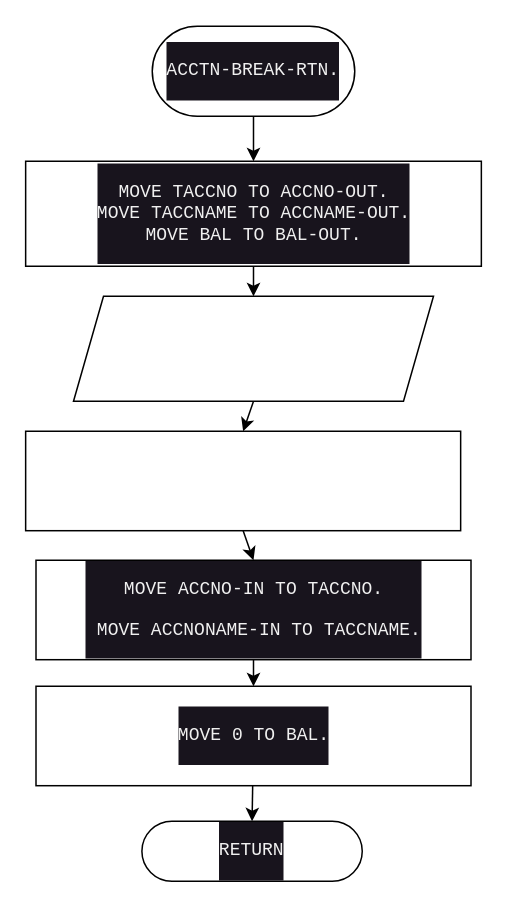
This 509x908 diagram has some shape labels left out. The centre of each missing label's shape, as x and y in pixels:
"ADD 1 TO DCTR. ADD BAL TO BCTR." goes at point 242,480.
"WRITE OUTREC FROM REC-OUT." goes at point 253,348.
